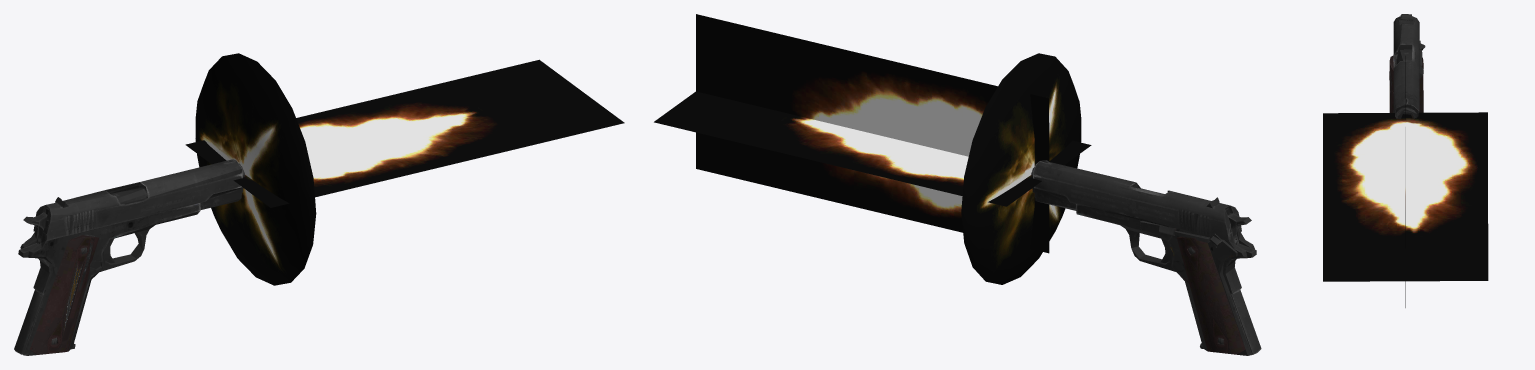
The model's file is Colt 1911_0.glb.
3 renders of one model, left to right at view 1: azimuth 30°, elevation 25°; view 2: azimuth 150°, elevation 25°; view 3: azimuth 270°, elevation 25°, orthographic. The views are drawn at different scales.
Visible parts, largest first — view 1: MuzzleFlash, 1911Colt_Decimated; view 2: MuzzleFlash, 1911Colt_Decimated; view 3: MuzzleFlash, 1911Colt_Decimated.
Part boxes in pixels (x1=…): MuzzleFlash: x1=185, y1=53, x2=624, y2=285; 1911Colt_Decimated: x1=14, y1=159, x2=244, y2=355; MuzzleFlash: x1=654, y1=14, x2=1091, y2=284; 1911Colt_Decimated: x1=1031, y1=160, x2=1261, y2=355; MuzzleFlash: x1=1323, y1=56, x2=1488, y2=307; 1911Colt_Decimated: x1=1389, y1=14, x2=1425, y2=118.
Bounding box in the file's own units: 0.6828 × 0.2777 × 0.2492.
2 materials, 2 textured.
